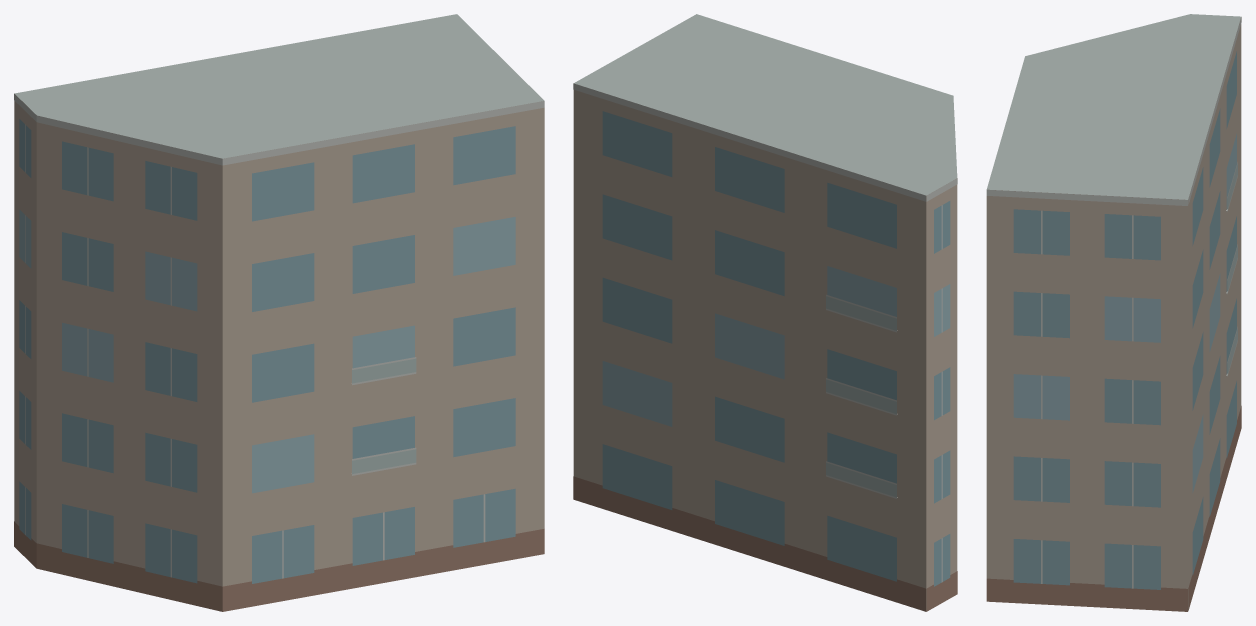
The model's file is survey-upis-32634943.glb.
The picture shows the model from 3 angles, left to right: view 1: azimuth 30°, elevation 25°; view 2: azimuth 150°, elevation 25°; view 3: azimuth 270°, elevation 25°; orthographic projection. The views are drawn at different scales.
Parts seen in each view (by area): view 1: survey-upis-32634943.tmp; view 2: survey-upis-32634943.tmp; view 3: survey-upis-32634943.tmp.
Boxes of the visible parts, x1,y1,x2,y2 form: survey-upis-32634943.tmp: (14, 14, 544, 611); survey-upis-32634943.tmp: (573, 14, 957, 611); survey-upis-32634943.tmp: (986, 14, 1241, 611).
Bounding box in the file's own units: 15.69 × 16.2 × 9.09.
